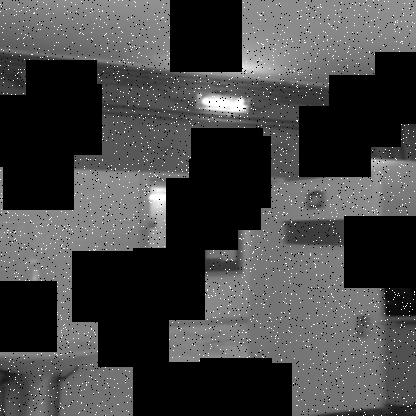Porte: (132, 170, 386, 415)
